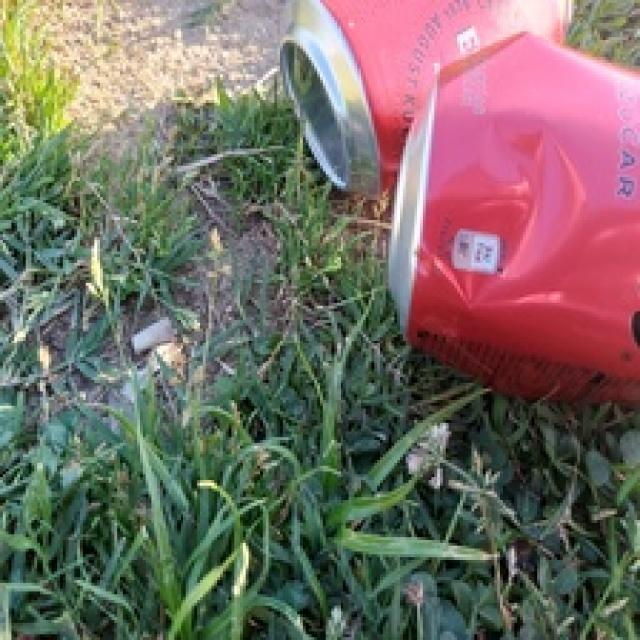recyclable: (386, 31, 640, 402), (278, 0, 564, 198)
